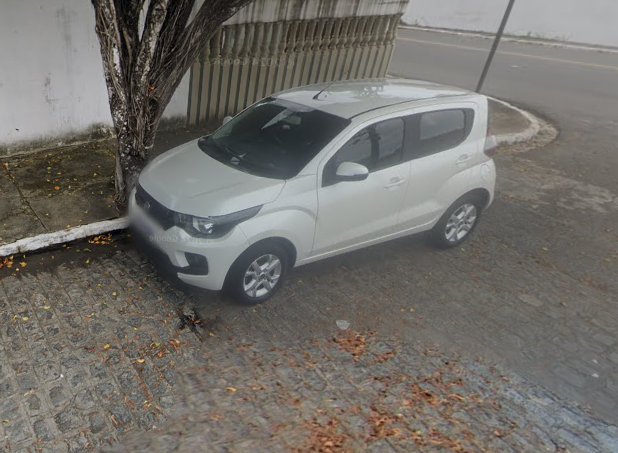car: (126, 71, 496, 307)
